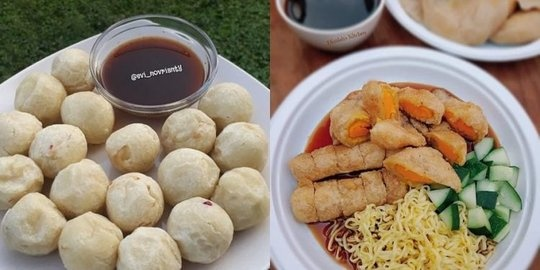pempek: (290, 76, 486, 214)
